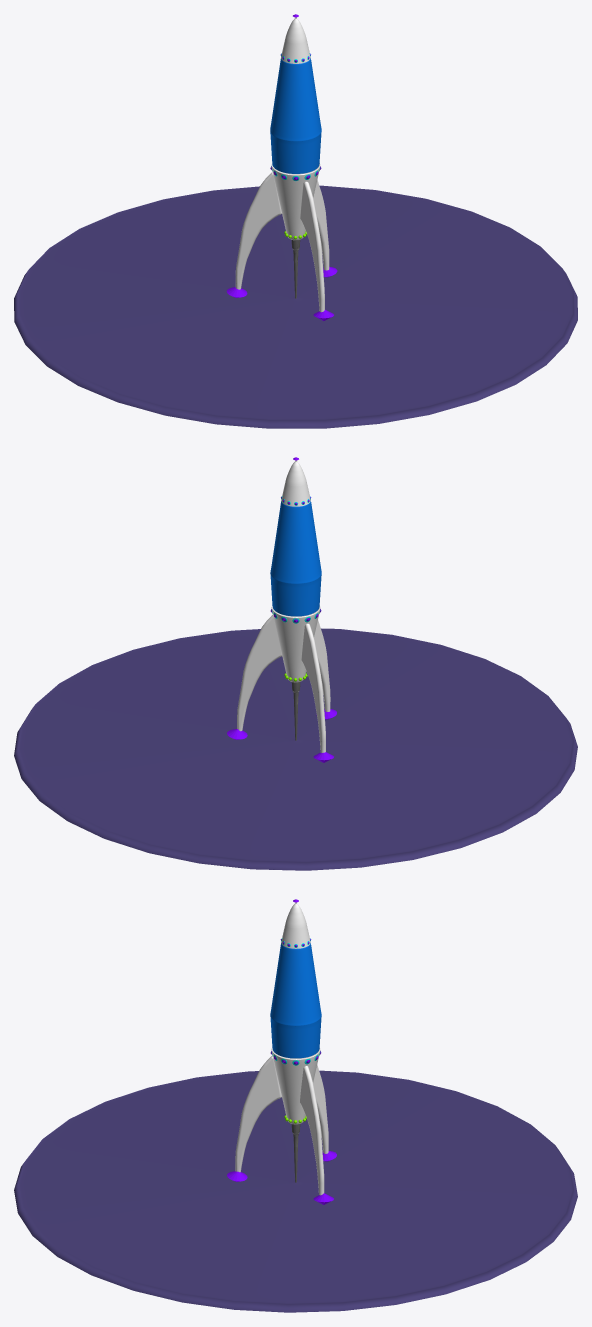
Rendered from lavalamp1.fbx.
3 views of the same model, one above another, from view 1: azimuth 30°, elevation 25°; view 2: azimuth 150°, elevation 25°; view 3: azimuth 270°, elevation 25° (orthographic).
Parts seen in each view (by area): view 1: s0066_8571, s0009_8435, s0033_3079, s0011_8933, s0010_0480; view 2: s0066_8571, s0009_8435, s0033_3079, s0011_8933, s0010_0480; view 3: s0066_8571, s0009_8435, s0033_3079, s0011_8933, s0010_0480.
Boxes of the visible parts, x1,y1,x2,y2 form: s0066_8571: (14,185,577,428); s0009_8435: (270,58,321,173); s0033_3079: (235,172,329,312); s0011_8933: (271,163,320,240); s0010_0480: (281,17,310,63); s0066_8571: (14,628,577,870); s0009_8435: (270,500,321,616); s0033_3079: (237,614,330,752); s0011_8933: (271,605,320,682); s0010_0480: (281,460,310,506); s0066_8571: (14,1070,577,1312); s0009_8435: (270,943,321,1058); s0033_3079: (235,1056,328,1195); s0011_8933: (271,1048,320,1124); s0010_0480: (281,902,310,948).
Bounding box in the file's own units: 0.2969 × 0.1716 × 0.2969.
